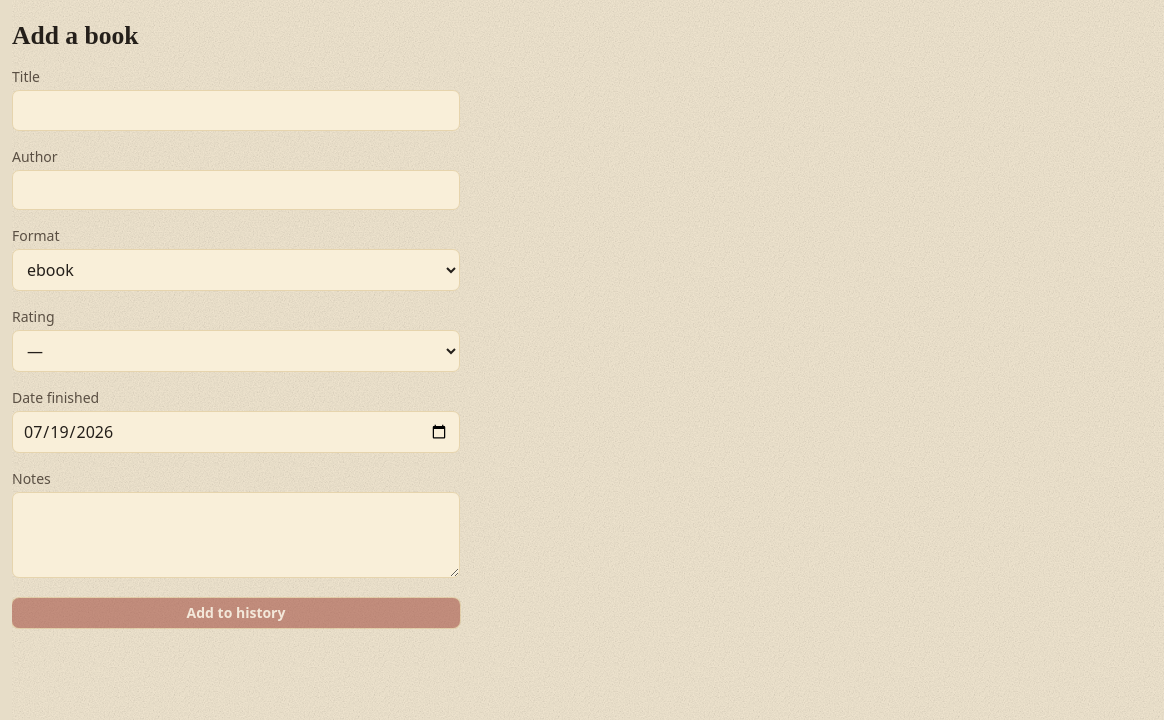
AddBookView › shows an error when the book is not found
Type "Ghost" into the field labelled "Title" at (236, 110), box [12,90,460,131]
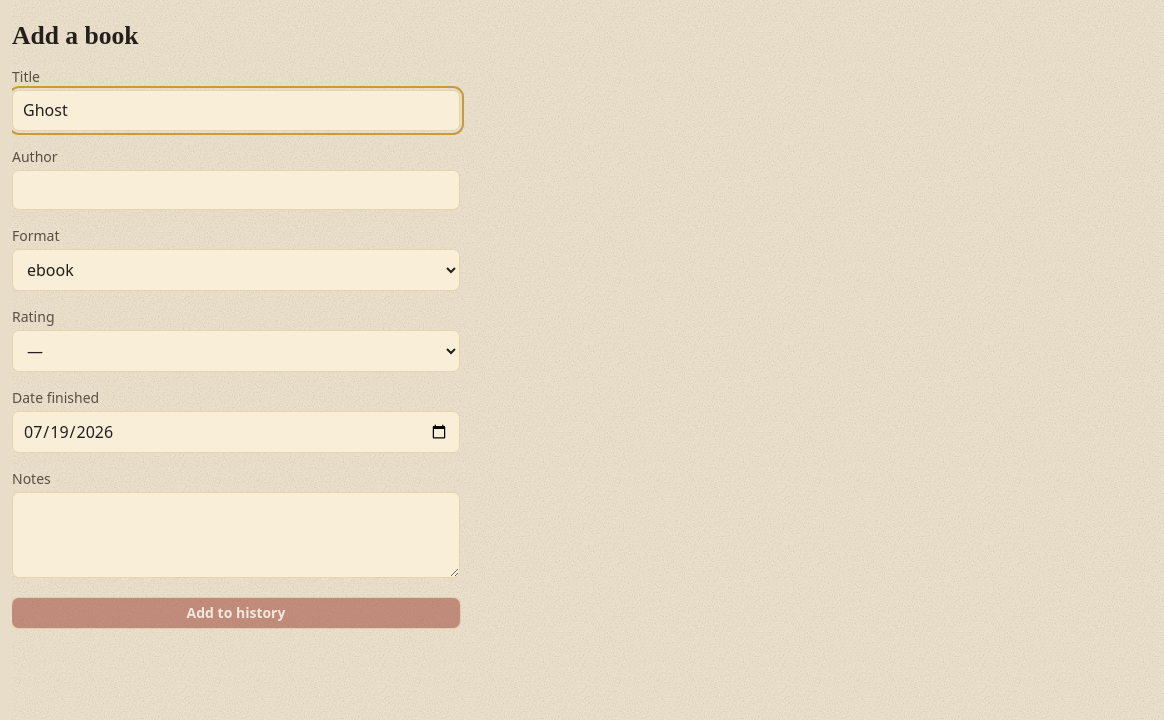
Type "Nobody" into the field labelled "Author" at (236, 190), box [12,170,460,210]
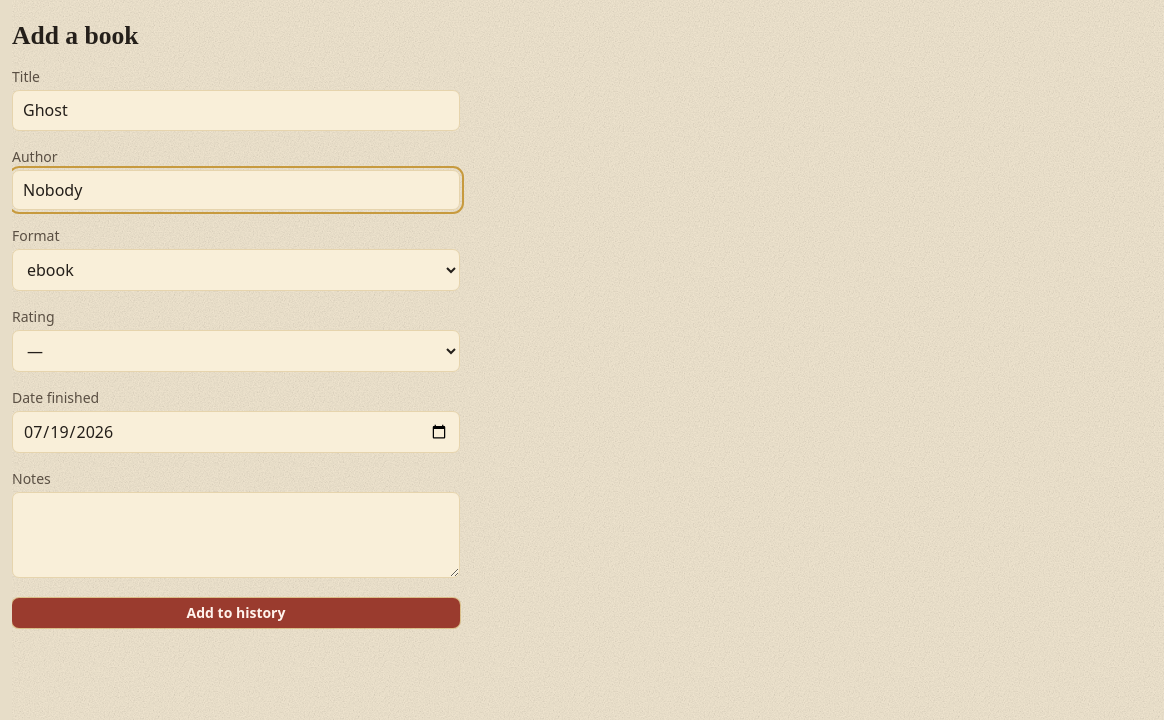
Click the button "Add to history" at (236, 613), box [12,598,460,628]
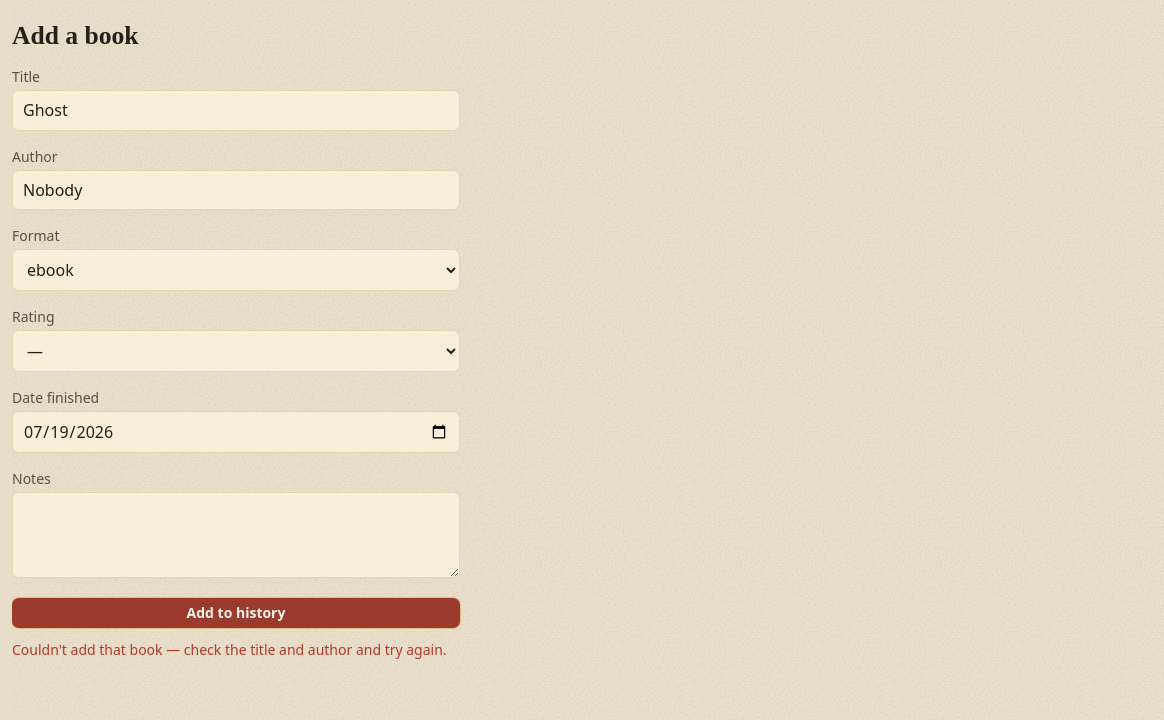
Expected: the text "couldn.t add" is shown, [12,640,447,659]
